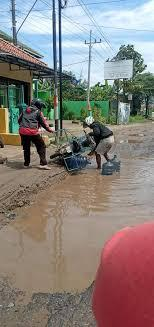Pothole: (0, 96, 147, 305), (119, 125, 154, 165)
